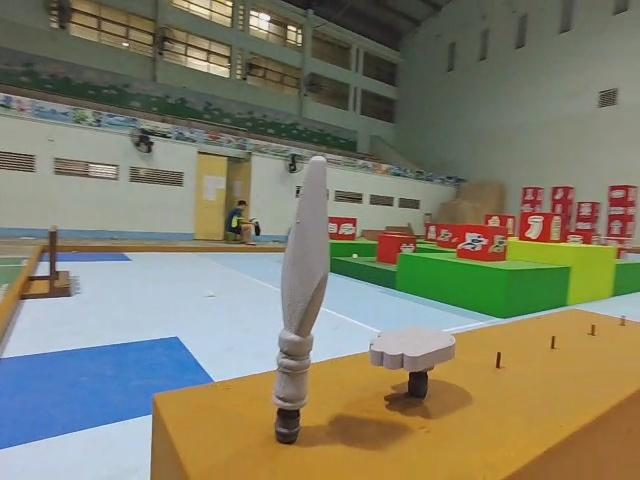Hand: (371, 326, 457, 405)
Sph: (269, 152, 332, 444)
